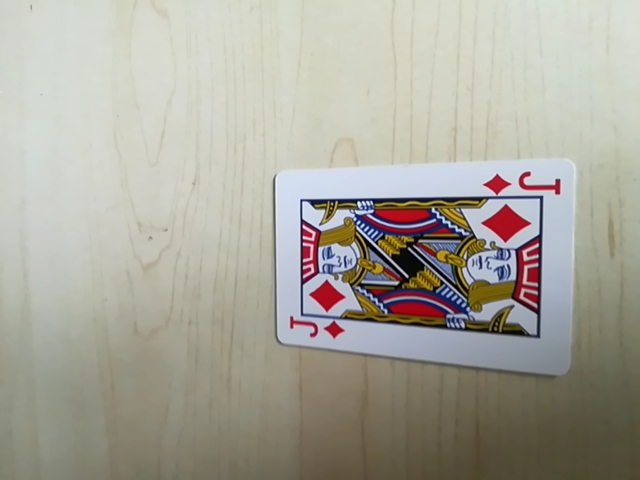fk j: (483, 167, 564, 197), (284, 317, 346, 347)
